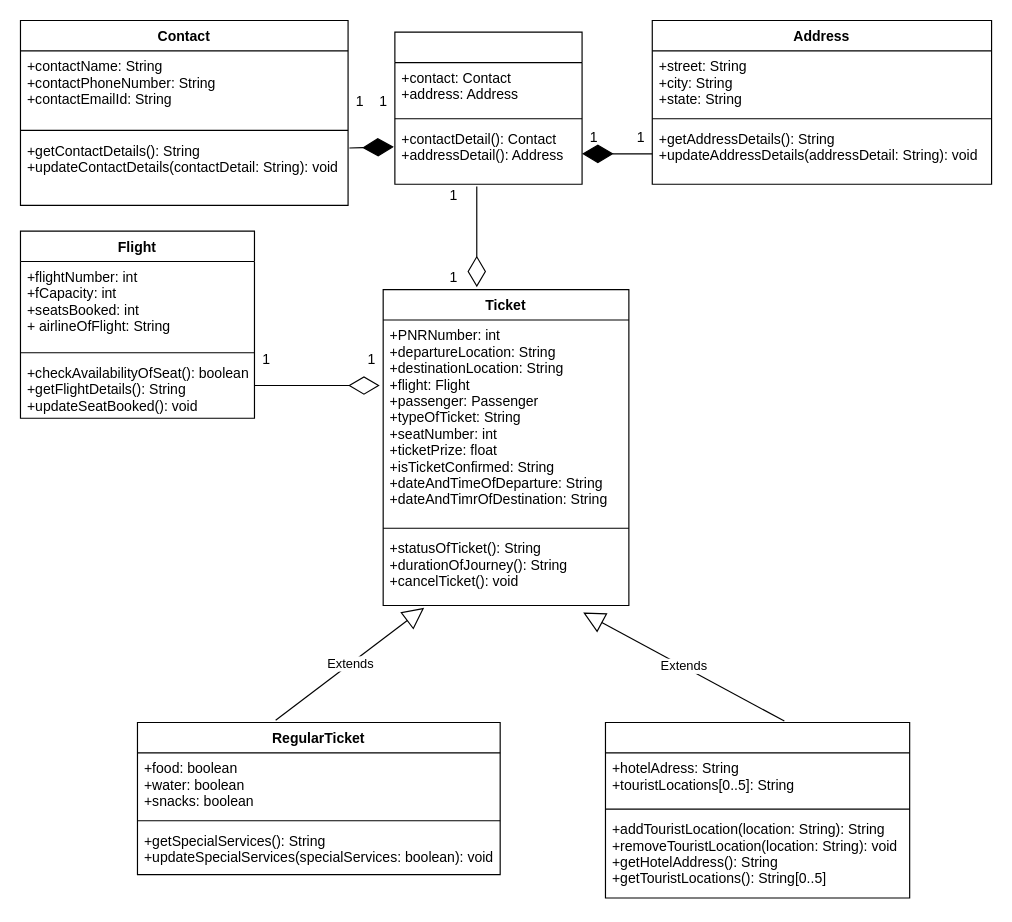
The diagram is 1012 pixels wide and 922 high, and some of its shapes have lost their labels. The box of each missing label's shape, as (x1, y1, x2, y2) in pixels:
Passenger: (394, 31, 582, 184)
TouristTicket: (604, 721, 910, 898)
